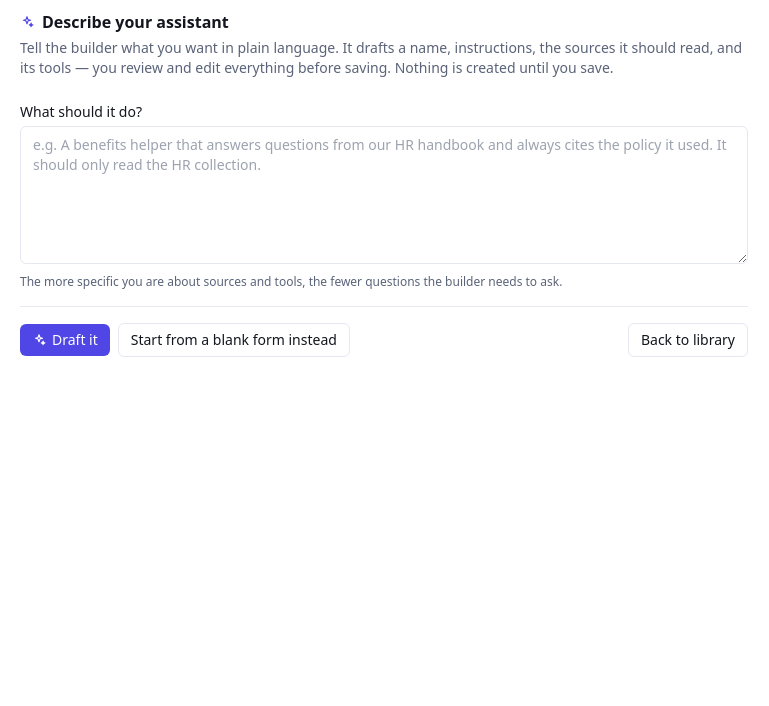
Test: DescribeAssistant — draft → editor (E6-1, #213) › renders the omission notes when the builder drops a tool/scope (AC-N)
The width and height of the screenshot is (769, 706).
Type "An assistant that can do foo." into the text box labelled "What should it do?" at (384, 195), box [20,126,748,264]
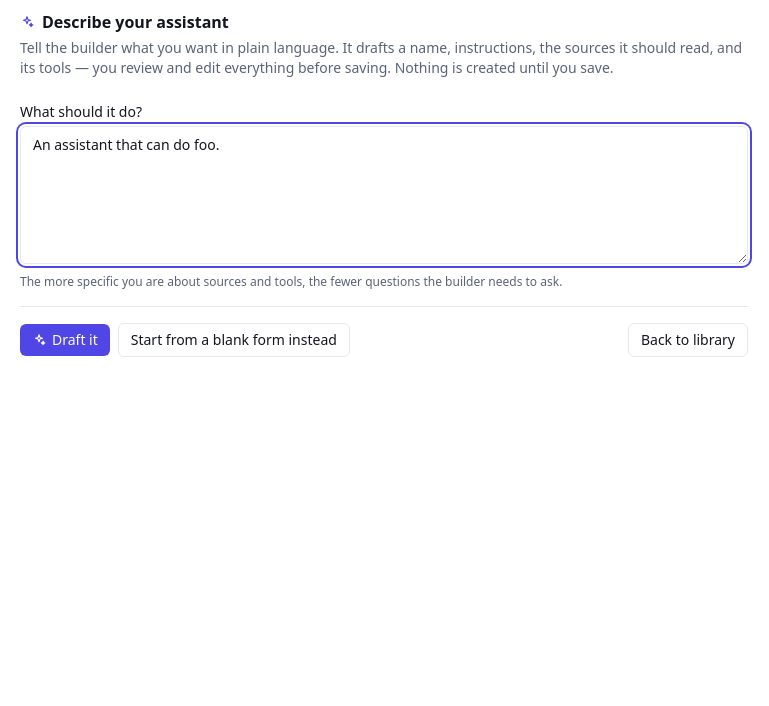
Click the button "Draft it" at (65, 340), box [20,324,110,356]
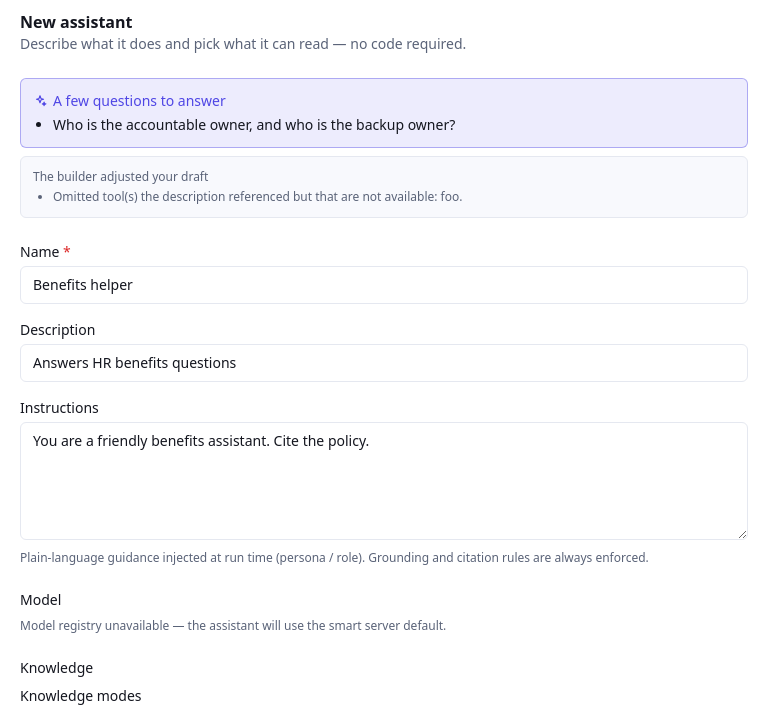
expect the text "The builder adjusted your draft" is shown: met, box [33,168,208,185]
expect the list item "not available" is shown: met, box [53,188,462,205]
